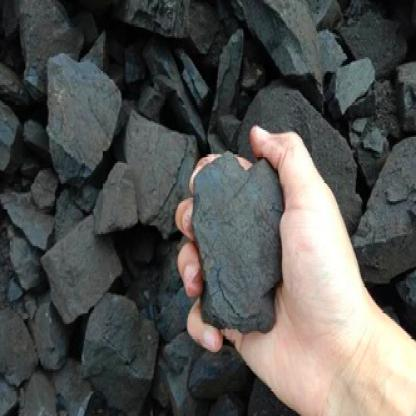Sedimentary_coal: (200, 149, 284, 336), (44, 54, 124, 187), (79, 282, 159, 411), (362, 121, 415, 286), (123, 111, 197, 224), (240, 0, 324, 83), (43, 220, 110, 314), (324, 45, 378, 109)
